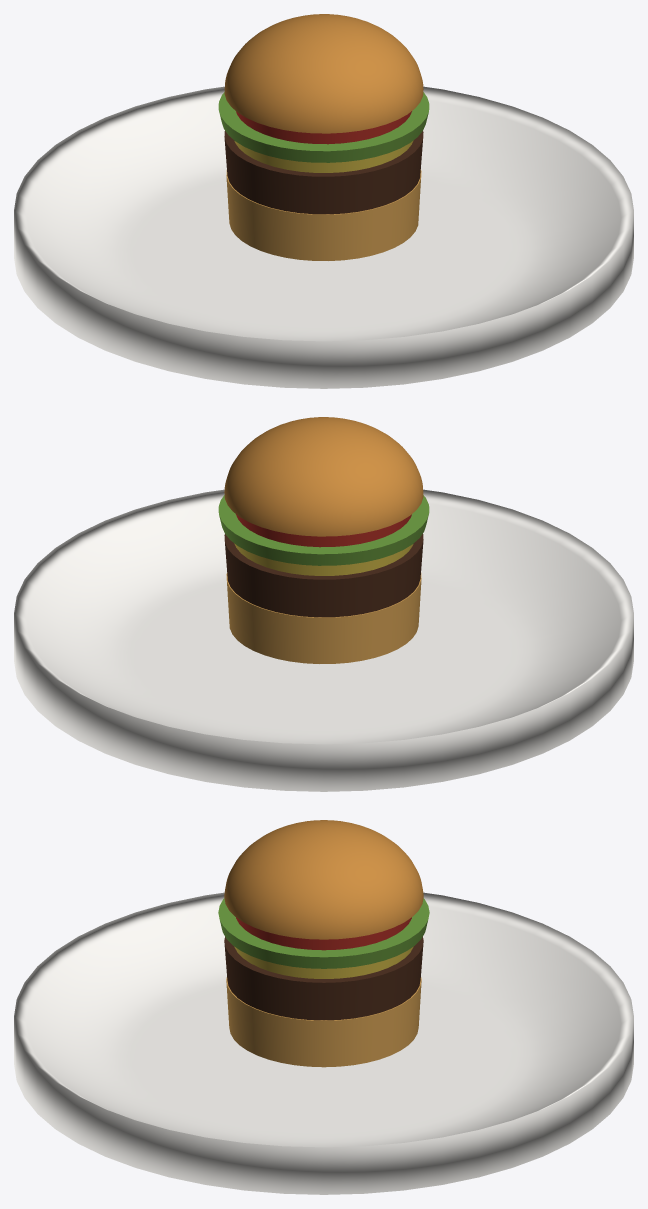
File: burger-kids-card.glb
3 views of the same model, one above another, from view 1: azimuth 30°, elevation 25°; view 2: azimuth 150°, elevation 25°; view 3: azimuth 270°, elevation 25° (orthographic).
Bounding box in the file's own units: 0.26 × 0.1071 × 0.26.
